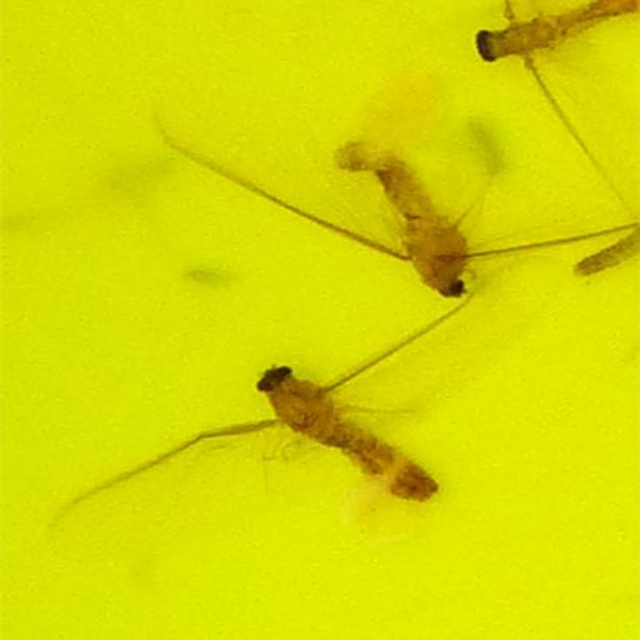Ephemeroptera: (159, 359, 439, 506), (323, 134, 481, 305), (473, 1, 640, 66)
